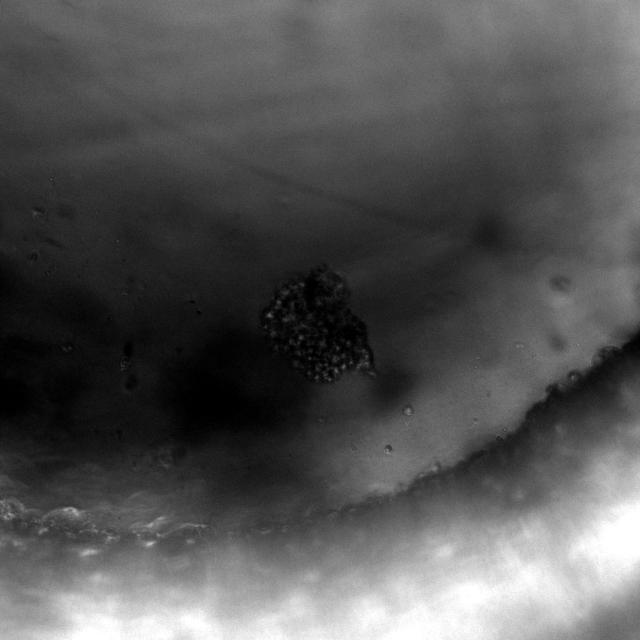organoid: (261, 265, 374, 382)
